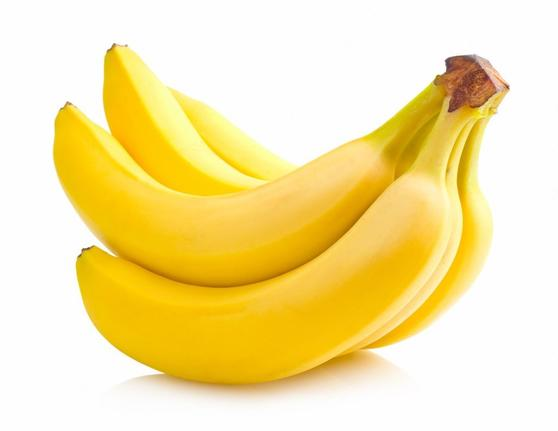banana: (50, 92, 470, 287)
